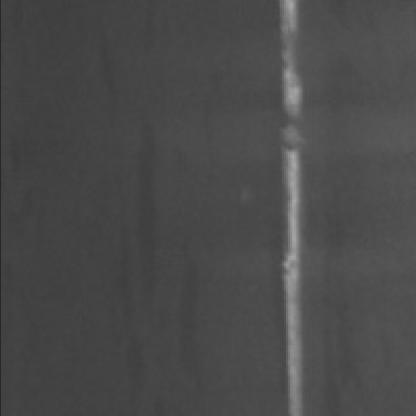scratches: (276, 125, 320, 416), (272, 4, 314, 126)
